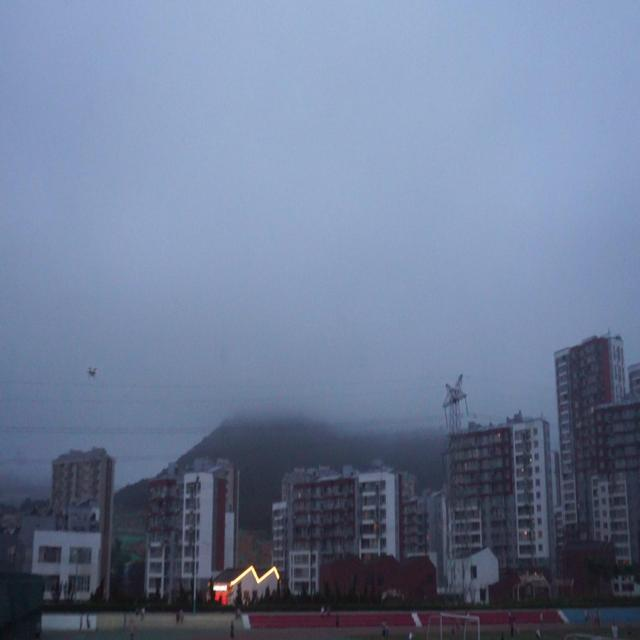drone: (86, 363, 98, 382)
